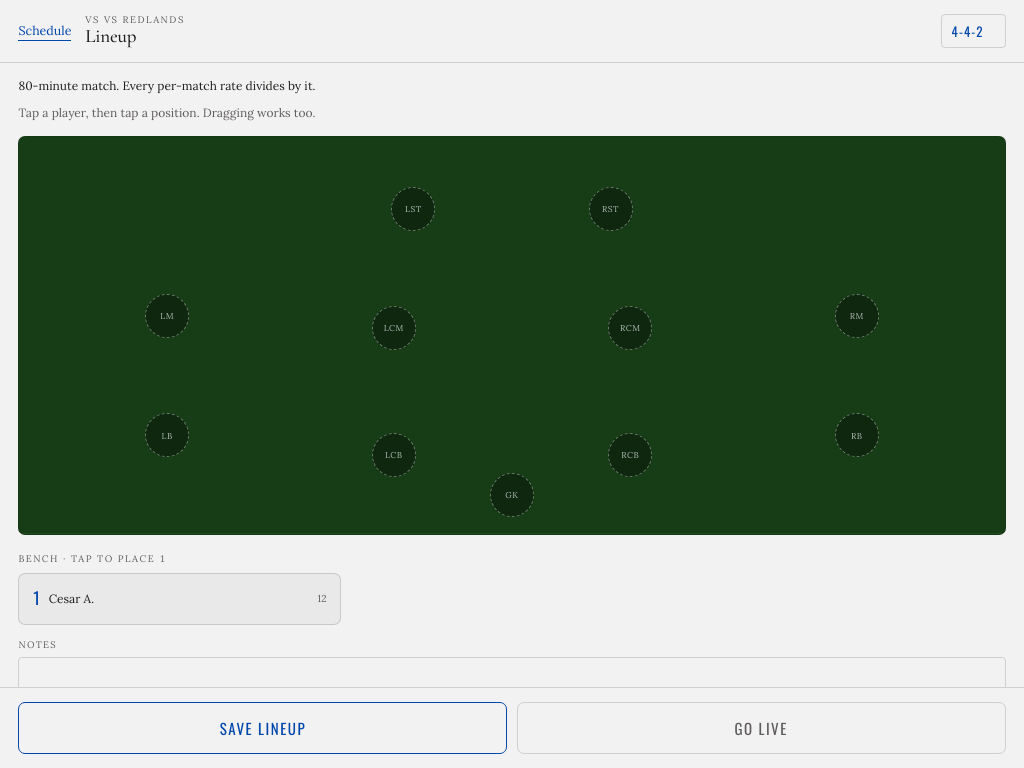
Test case: the bench › says so when everyone is on the pitch
The width and height of the screenshot is (1024, 768).
Click the button "1 Cesar A. 12" at [71, 599], box [18,572,341,624]
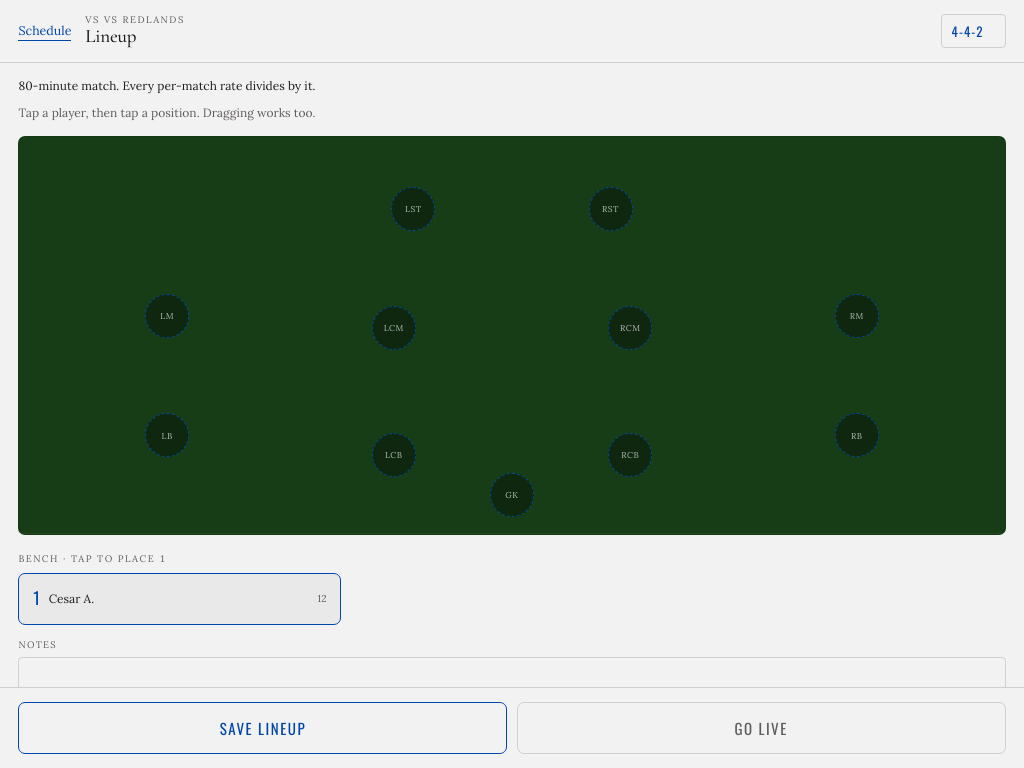
Click the element showing "GK" at [512, 495], box [490,473,534,517]
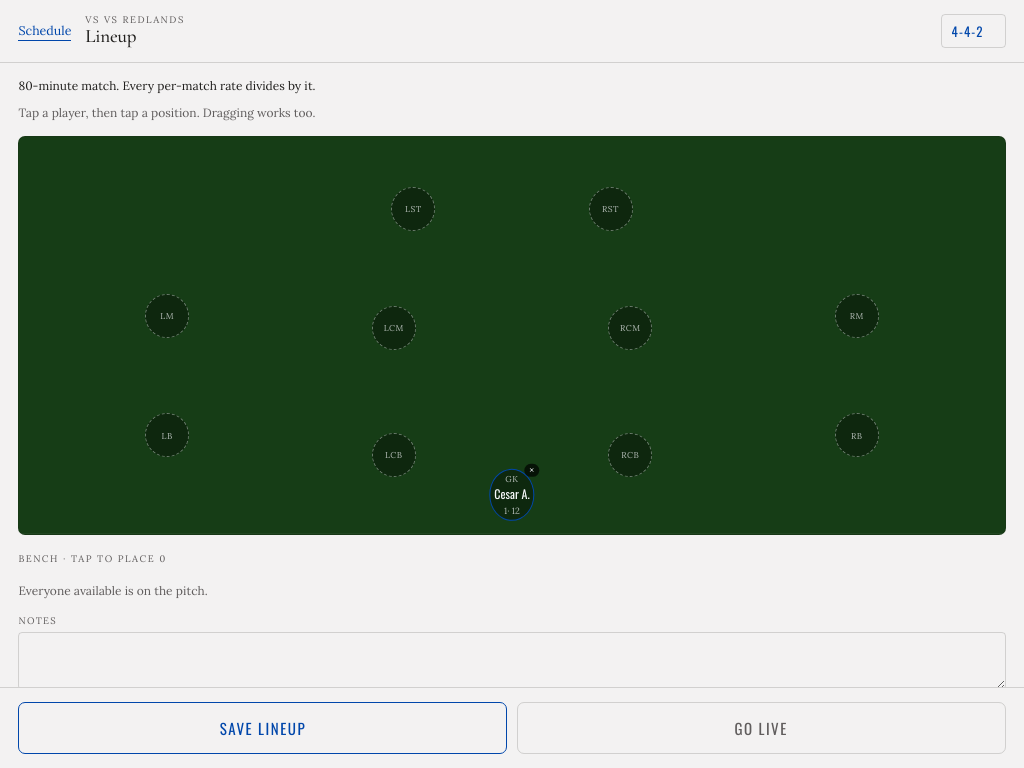
expect the element showing "Everyone available is on the pitch." is shown: met, box [18,583,208,598]
